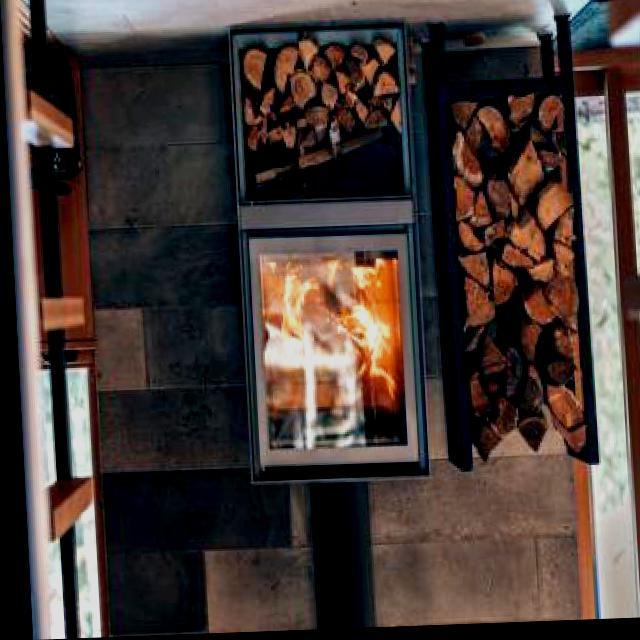no_helmet: (259, 259, 399, 413)
